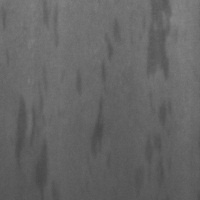inclusion: (137, 1, 182, 196), (88, 17, 125, 162), (13, 75, 51, 199), (40, 1, 62, 50), (72, 69, 86, 100)
